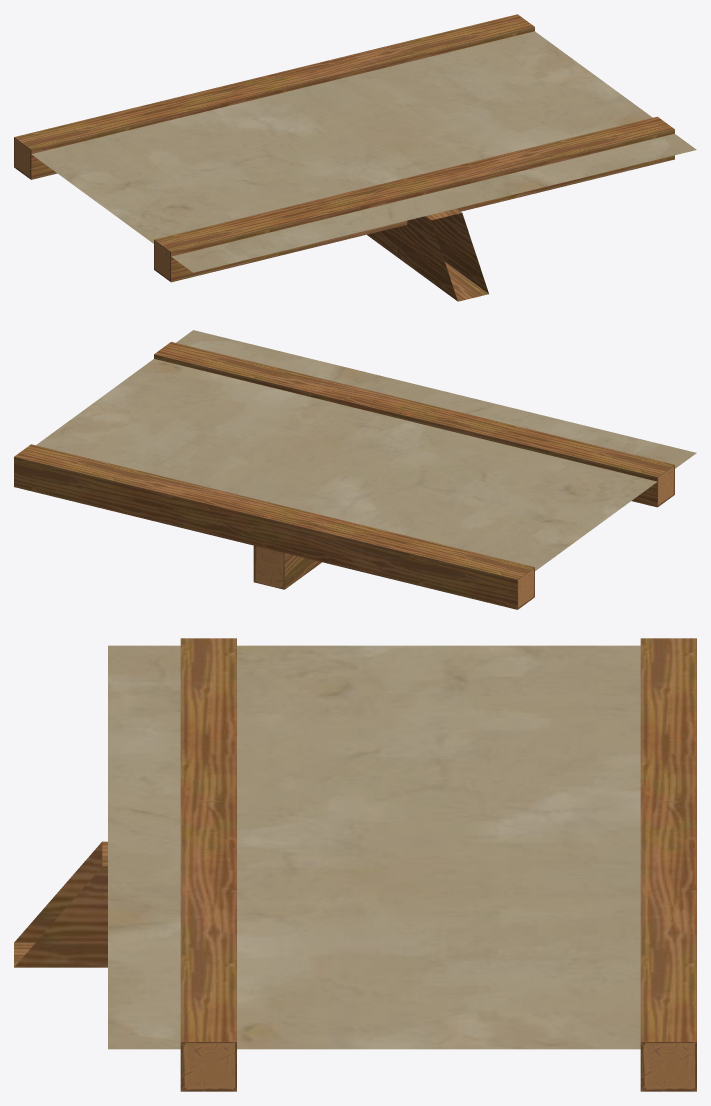
File: roof-qm-overhangroofinclineplaster.glb
3 views of the same model, one above another, from view 1: azimuth 30°, elevation 25°; view 2: azimuth 150°, elevation 25°; view 3: azimuth 270°, elevation 25° (orthographic). The views are drawn at different scales.
Parts seen in each view (by area): view 1: Cube_100; view 2: Cube_100; view 3: Cube_100.
Part boxes in pixels (<box>): Cube_100: <box>14,14,696,301</box>; Cube_100: <box>14,330,696,609</box>; Cube_100: <box>14,638,696,1091</box>.
Size of the model in its own units: 2 by 0.2659 by 1.43.
Materials: 2 (2 with a texture image).
